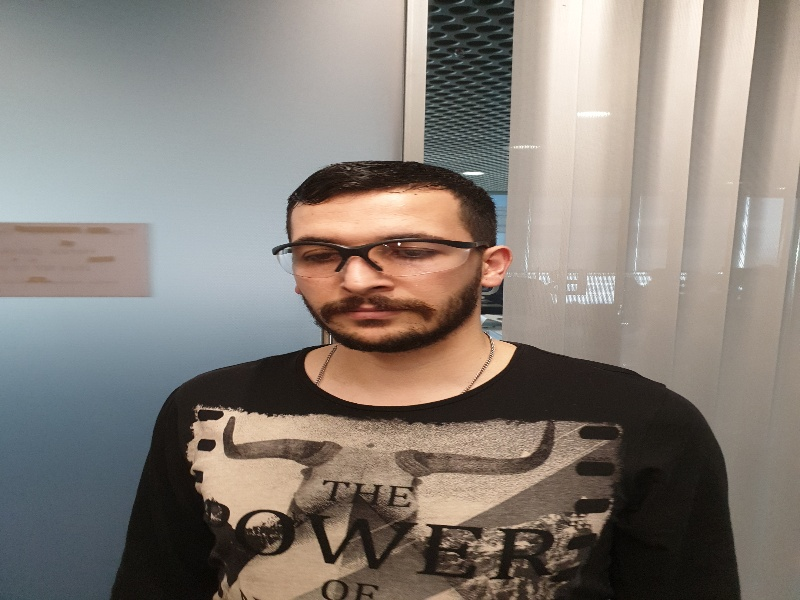Gozluk: (271, 238, 481, 279)
